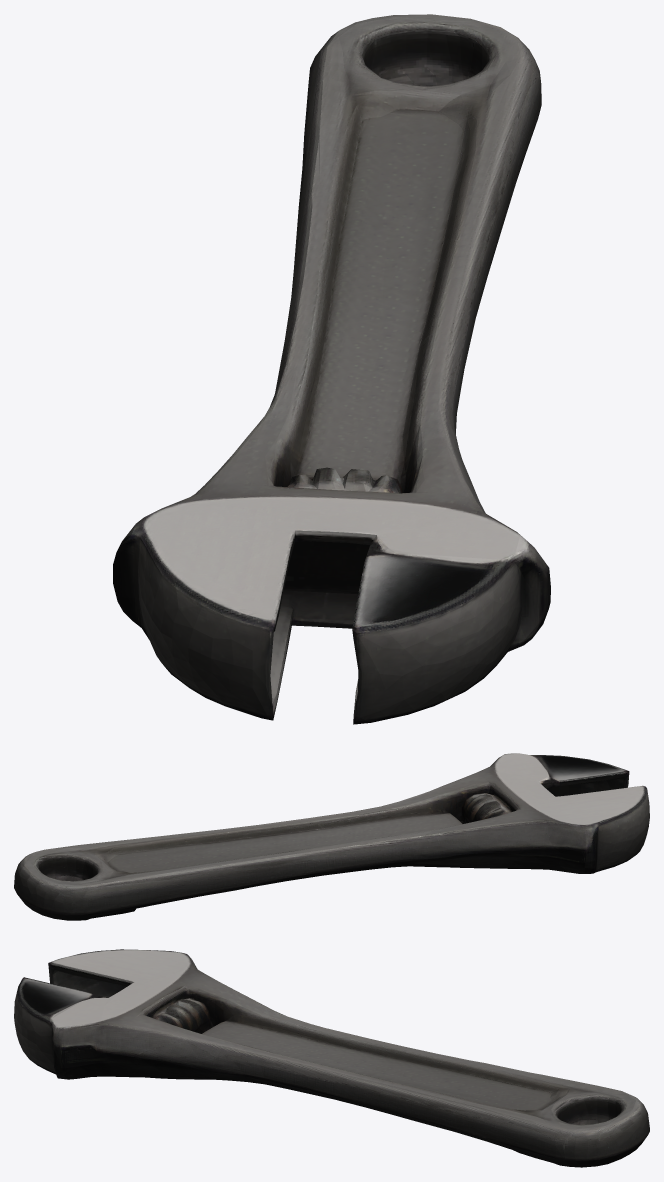
The model's file is vanadio.fbx.
3 views of the same model, one above another, from view 1: azimuth 30°, elevation 25°; view 2: azimuth 150°, elevation 25°; view 3: azimuth 270°, elevation 25° (orthographic). The views are drawn at different scales.
Visible parts, largest first — view 1: geometry_0.001; view 2: geometry_0.001; view 3: geometry_0.001.
Boxes of the visible parts, x1,y1,x2,y2 form: geometry_0.001: [113, 14, 550, 724]; geometry_0.001: [14, 753, 649, 920]; geometry_0.001: [14, 949, 649, 1167].
Size of the model in its own units: 0.3437 by 0.0614 by 0.4396.
Materials: 1 (1 with a texture image).
